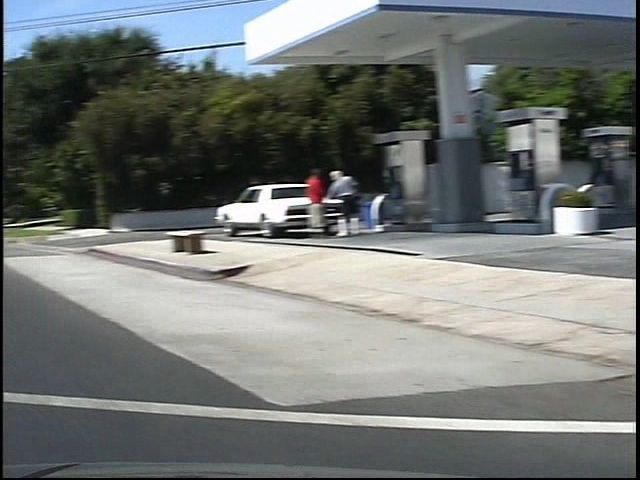person: (305, 168, 345, 243), (282, 164, 312, 243)
